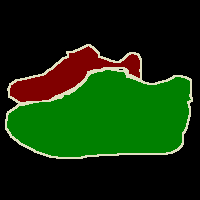shoe: (6, 68, 192, 158), (8, 44, 141, 103)
